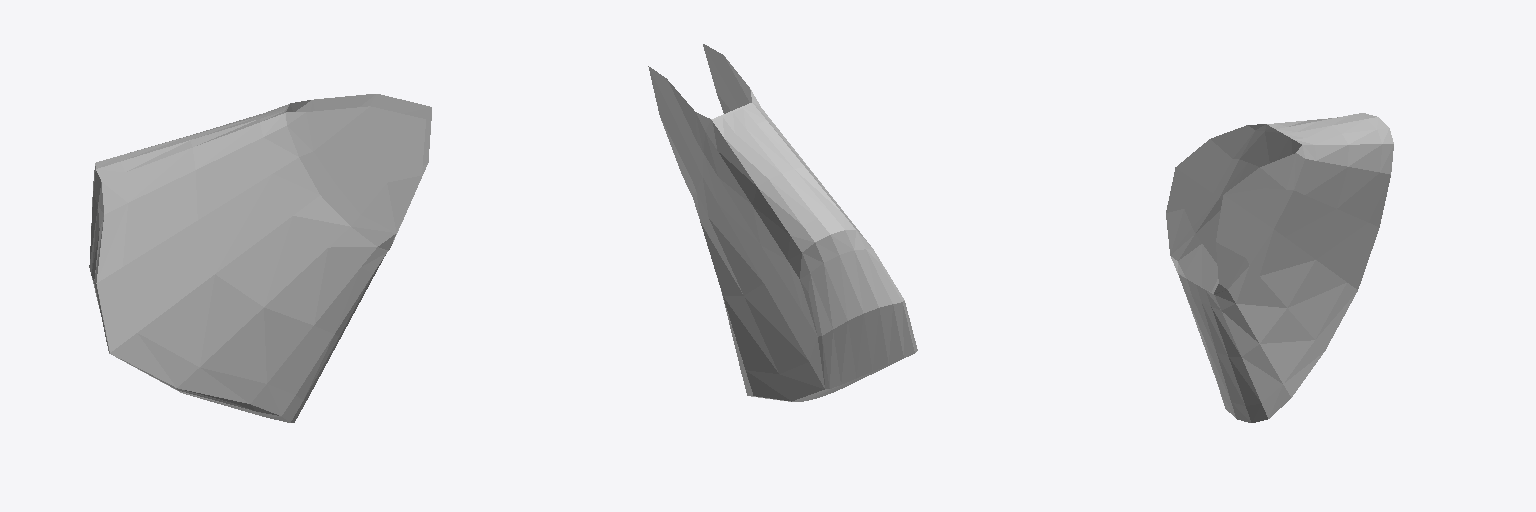
File: SubTool-3-13201594.OBJ
3 renders of one model, left to right at view 1: azimuth 30°, elevation 25°; view 2: azimuth 150°, elevation 25°; view 3: azimuth 270°, elevation 25°, orthographic.
Parts seen in each view (by area): view 1: Group30; view 2: Group30; view 3: Group30.
Boxes of the visible parts, box(x1,y1,x2,y2) form: Group30: box(89, 94, 431, 422); Group30: box(648, 44, 917, 401); Group30: box(1166, 113, 1393, 422).
Bounding box in the file's own units: 1.92 × 1.93 × 1.28.